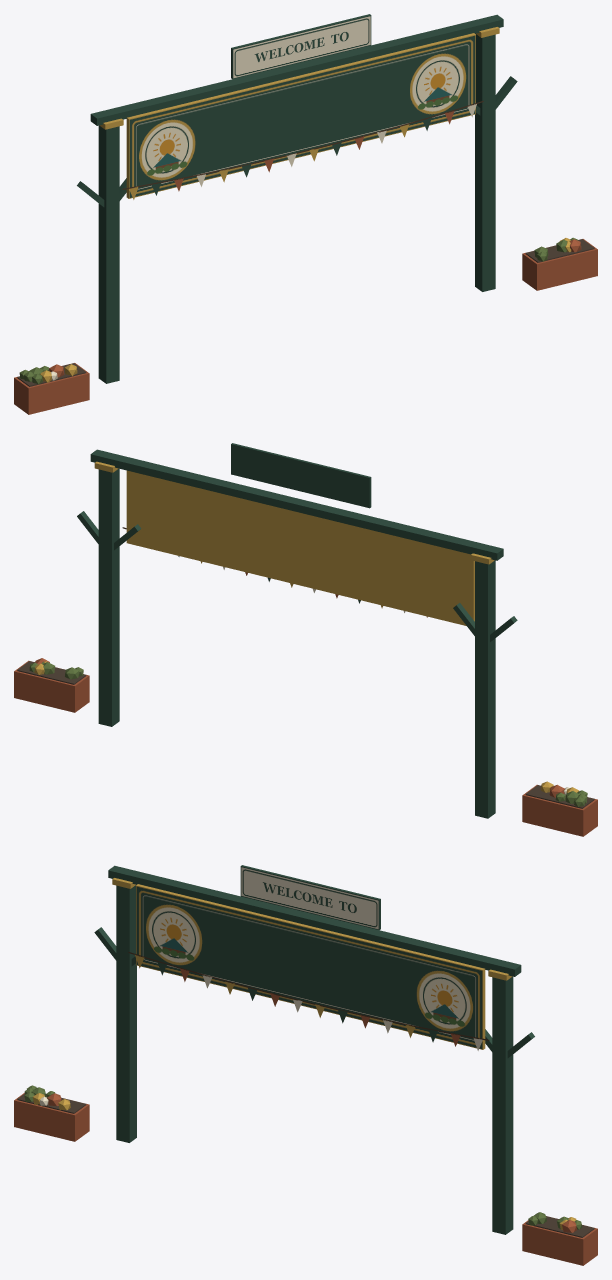
The model's file is lwf_gate_sign_tier3_v1.glb.
The picture shows the model from 3 angles, top to bottom: view 1: azimuth 30°, elevation 25°; view 2: azimuth 150°, elevation 25°; view 3: azimuth 330°, elevation 25°; orthographic projection.
Parts seen in each view (by area): view 1: GateSignTier3_Board, GateSignTier3, Pennants; view 2: GateSignTier3; view 3: GateSignTier3_Board, GateSignTier3, Pennants.
Boxes of the visible parts, x1=… form: GateSignTier3_Board: x1=129, y1=16, x2=475, y2=197; GateSignTier3: x1=14, y1=14, x2=597, y2=414; Pennants: x1=122, y1=101, x2=483, y2=199; GateSignTier3: x1=14, y1=443, x2=597, y2=836; GateSignTier3_Board: x1=136, y1=867, x2=482, y2=1048; GateSignTier3: x1=14, y1=865, x2=597, y2=1265; Pennants: x1=128, y1=952, x2=489, y2=1050.
Bounding box in the file's own units: 11.2 × 5.73 × 0.73.
Materials: 3 (3 with a texture image).
